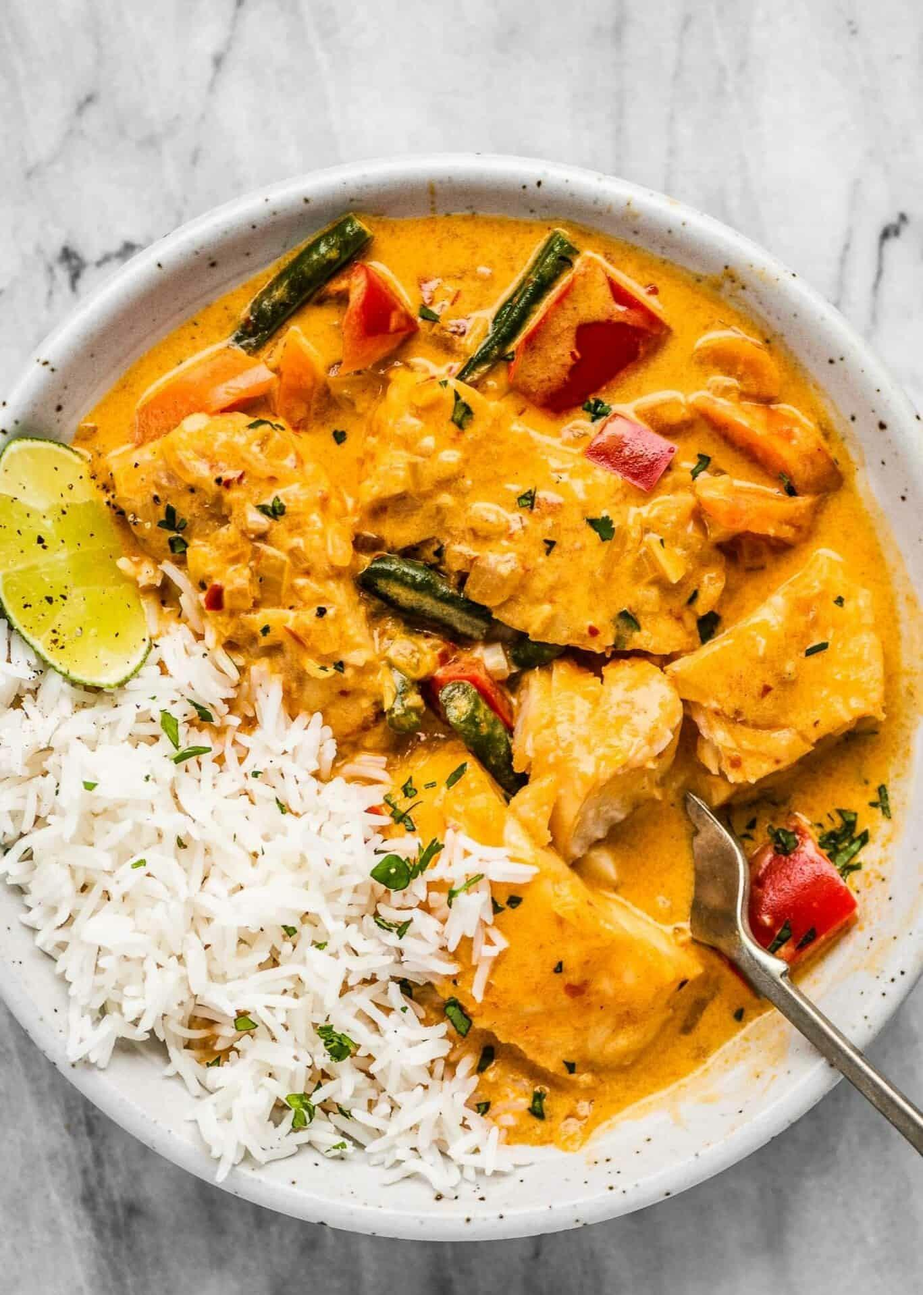FishCurry: (76, 213, 923, 1158)
